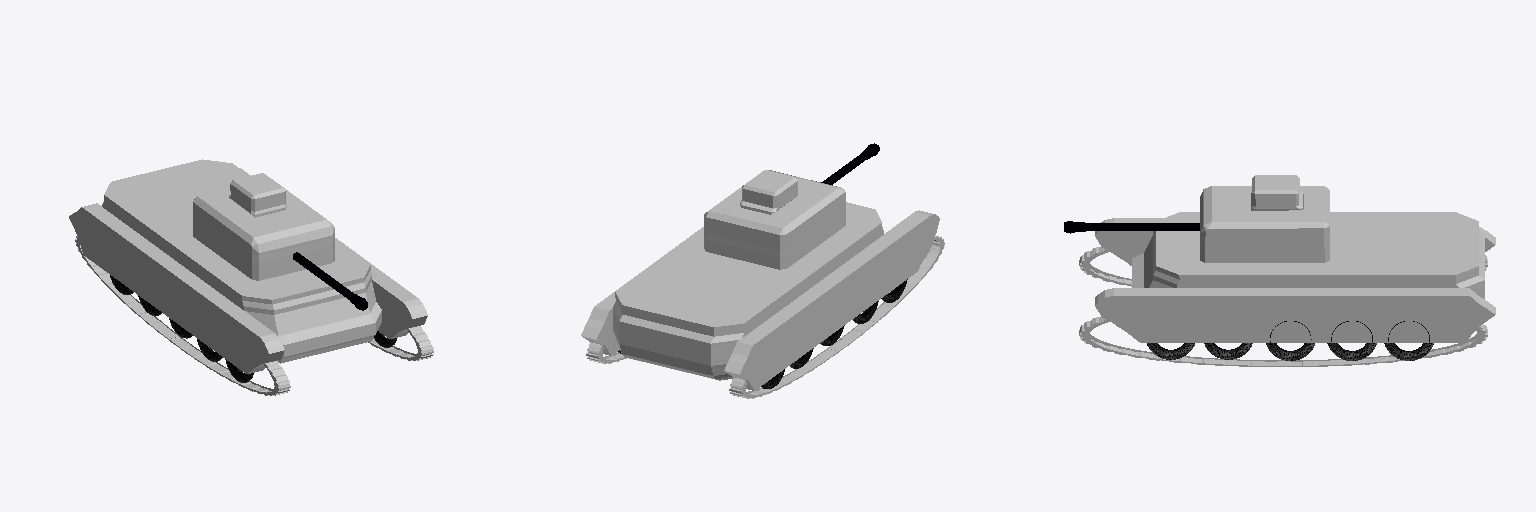
3 views of the same model, side by side, from view 1: azimuth 30°, elevation 25°; view 2: azimuth 150°, elevation 25°; view 3: azimuth 270°, elevation 25° (orthographic).
Parts seen in each view (by area): view 1: Cubo.001, Gear, Rosca.005, Cilindro; view 2: Cubo.001, Gear, Rosca.005, Cilindro; view 3: Cubo.001, Gear, Rosca.005, Cilindro.
Part boxes in pixels (bbox=[...]): Cubo.001: bbox=[102, 159, 381, 363]; Gear: bbox=[69, 168, 433, 395]; Rosca.005: bbox=[110, 275, 396, 382]; Cilindro: bbox=[293, 252, 367, 310]; Cubo.001: bbox=[613, 170, 883, 380]; Gear: bbox=[581, 210, 944, 398]; Rosca.005: bbox=[618, 279, 907, 388]; Cilindro: bbox=[821, 143, 879, 184]; Cubo.001: bbox=[1132, 175, 1484, 298]; Gear: bbox=[1079, 218, 1495, 366]; Rosca.005: bbox=[1147, 321, 1433, 360]; Cilindro: bbox=[1064, 221, 1199, 233].
Bounding box in the file's own units: 8.93 × 7.87 × 20.96.
4 materials, 1 textured.